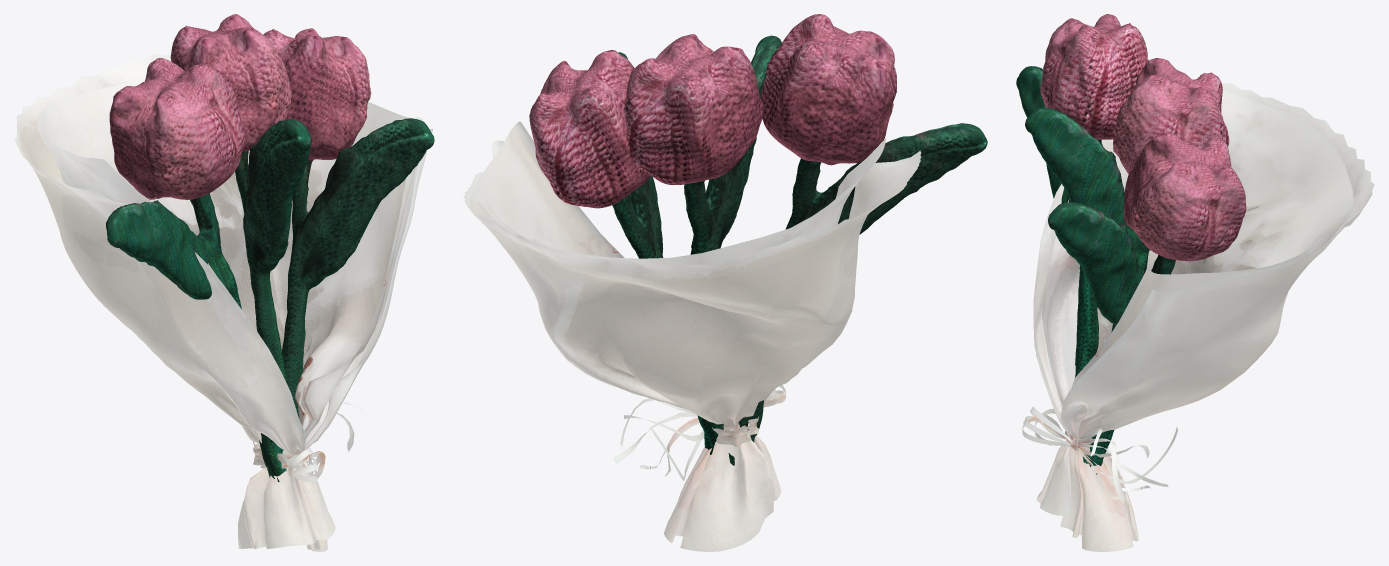
Rendered from tulips_bouquet.glb.
3 renders of one model, left to right at view 1: azimuth 30°, elevation 25°; view 2: azimuth 150°, elevation 25°; view 3: azimuth 270°, elevation 25°, orthographic. The views are drawn at different scales.
Parts seen in each view (by area): view 1: outer, inner, Tulip_Petal.001, Tulip_Stem.002, Tulip_Stem, Tulip_Petal.002, Tulip_Stem.001, Tulip_Petal, ribbon; view 2: outer, Tulip_Petal, Tulip_Petal.001, Tulip_Petal.002, inner, Tulip_Stem.001, Tulip_Stem, Tulip_Stem.002, ribbon, parcel_knot; view 3: outer, inner, Tulip_Petal.002, Tulip_Petal.001, Tulip_Petal, Tulip_Stem, Tulip_Stem.002, Tulip_Stem.001, ribbon.
Part boxes in pixels (x1,y1,x2,y2): outer: (14,54,433,551); inner: (37,77,422,439); Tulip_Petal.001: (109,58,245,199); Tulip_Stem.002: (282,118,434,417); Tulip_Stem: (235,119,311,386); Tulip_Petal.002: (263,28,371,160); Tulip_Stem.001: (106,193,286,481); Tulip_Petal: (170,14,291,151); ribbon: (253,402,365,482); outer: (463,140,921,551); Tulip_Petal: (624,34,763,184); Tulip_Petal.001: (760,14,896,165); Tulip_Petal.002: (529,50,650,208); inner: (474,121,885,266); Tulip_Stem.001: (738,123,987,442); Tulip_Stem: (684,35,781,454); Tulip_Stem.002: (612,52,734,465); ribbon: (613,384,786,480); parcel_knot: (712,416,758,446); outer: (1033,78,1374,551); inner: (1042,79,1353,407); Tulip_Petal.002: (1123,132,1246,261); Tulip_Petal.001: (1040,14,1148,139); Tulip_Petal: (1097,58,1229,461); Tulip_Stem: (1025,107,1149,474); Tulip_Stem.002: (1048,202,1175,458); Tulip_Stem.001: (1016,66,1102,377); ribbon: (1022,407,1177,503).
Bounding box in the file's own units: 1.84 × 2.27 × 1.57.
6 materials, 6 textured.
